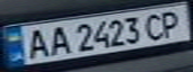2: (72, 20, 96, 53), (106, 16, 127, 47)
3: (121, 14, 148, 45)
4: (90, 17, 112, 51)
A: (21, 26, 51, 61), (45, 24, 72, 56)
C: (139, 10, 169, 40)
P: (157, 8, 190, 38)
